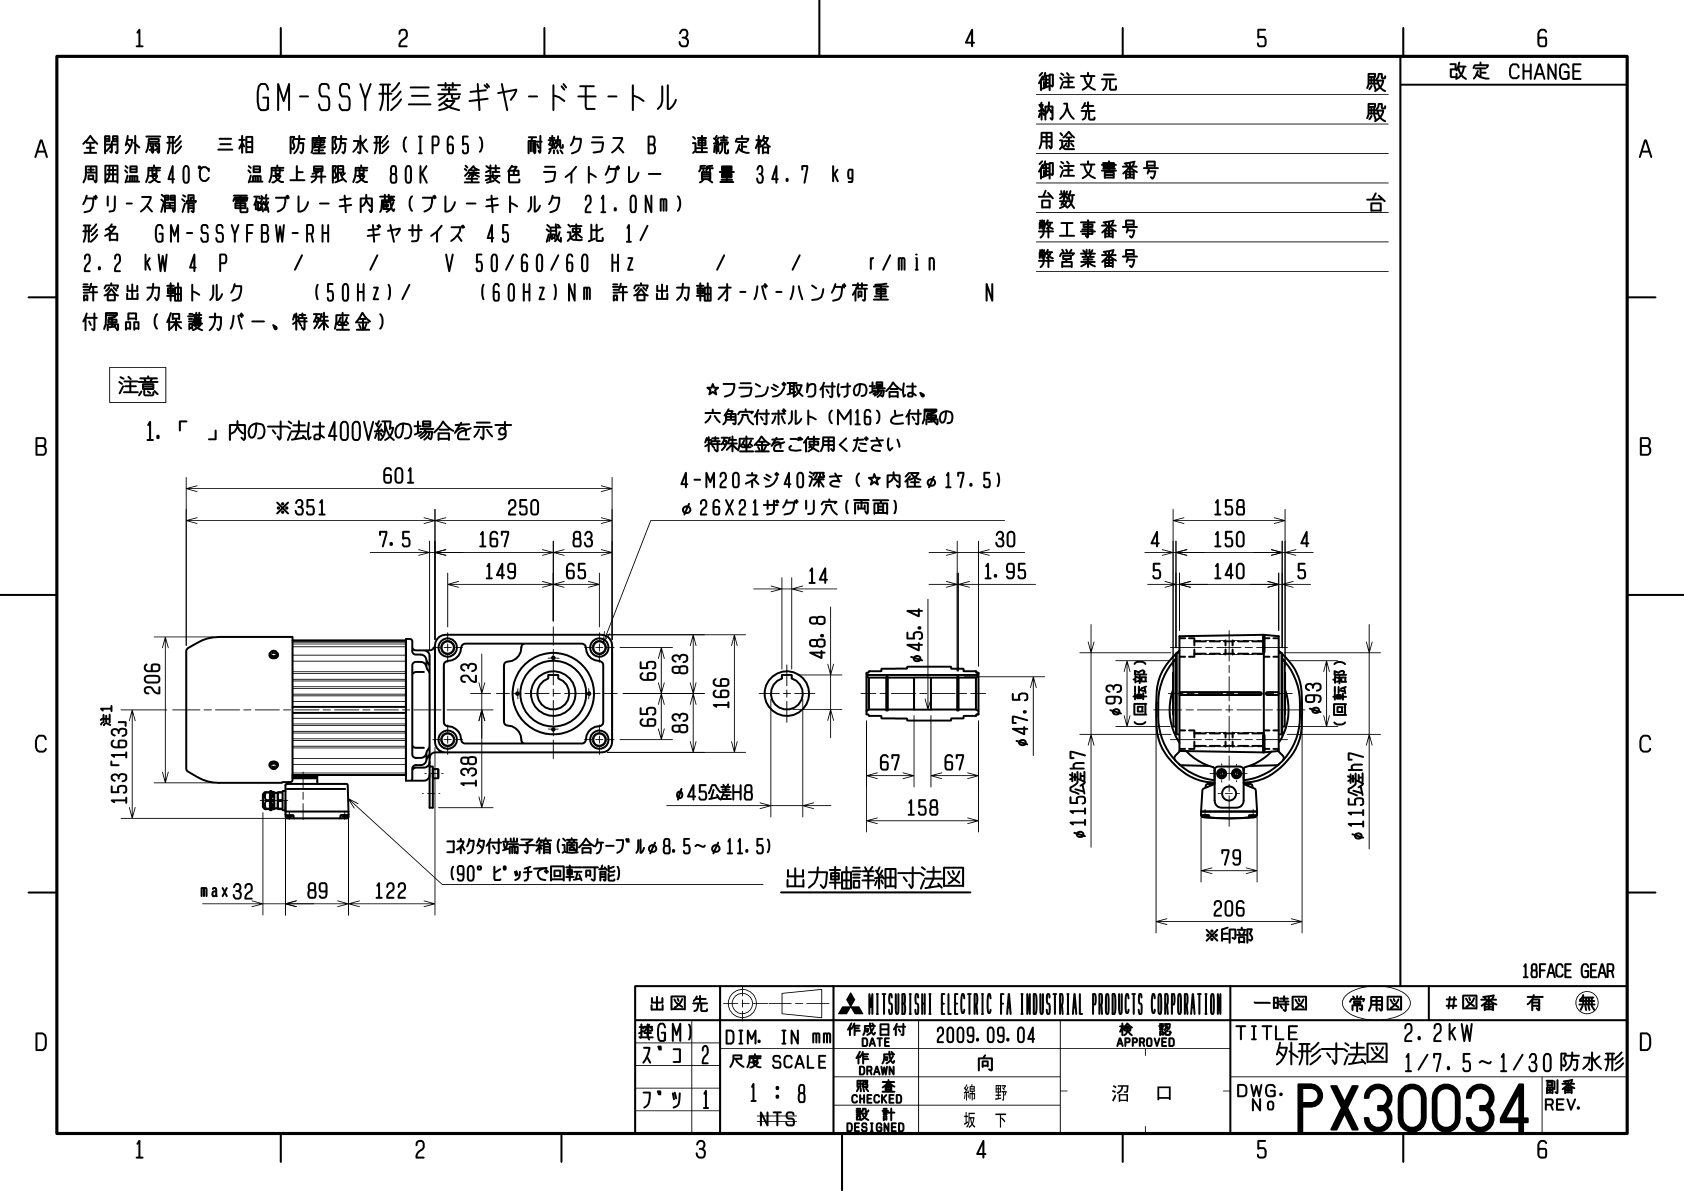GM_SSY_IP65_三相: (82, 349, 1392, 962)
